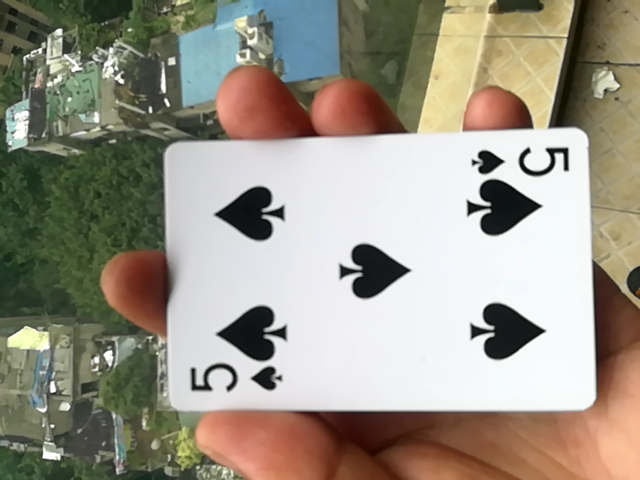ht 5: (141, 128, 594, 422)
